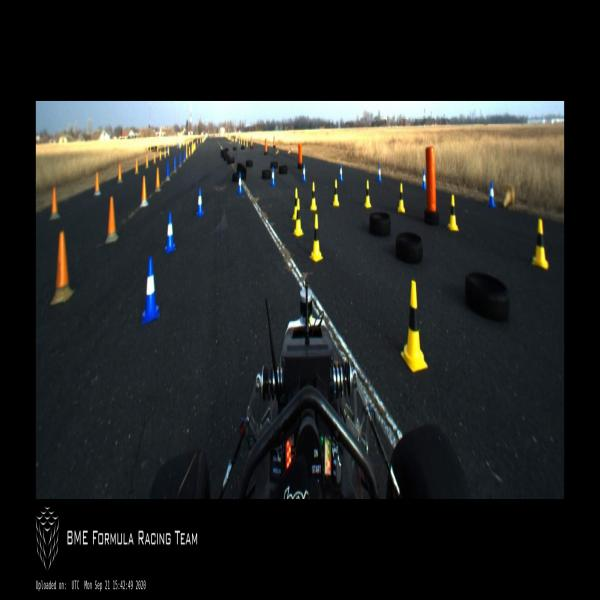blue_cone: (142, 258, 160, 326), (165, 211, 176, 255), (195, 188, 204, 216), (488, 181, 496, 209), (422, 170, 427, 190), (238, 173, 242, 195), (271, 166, 275, 186), (302, 163, 306, 182), (339, 163, 343, 182), (378, 164, 381, 182)
unknown_cone: (50, 230, 74, 306), (105, 198, 119, 245), (49, 186, 61, 221), (502, 180, 514, 209), (140, 176, 150, 207), (93, 171, 102, 196), (117, 164, 124, 184), (155, 168, 160, 191), (134, 157, 139, 174), (166, 160, 170, 181), (173, 155, 177, 172), (145, 154, 149, 169), (179, 152, 182, 167), (183, 149, 186, 162), (159, 149, 162, 162), (153, 152, 156, 164), (164, 147, 166, 158)
yellow_cone: (401, 281, 427, 372), (532, 219, 549, 270), (310, 215, 323, 262), (447, 195, 459, 231), (294, 199, 304, 237), (292, 188, 300, 219), (310, 182, 318, 209), (332, 179, 340, 206), (398, 182, 405, 212), (365, 180, 371, 208)
